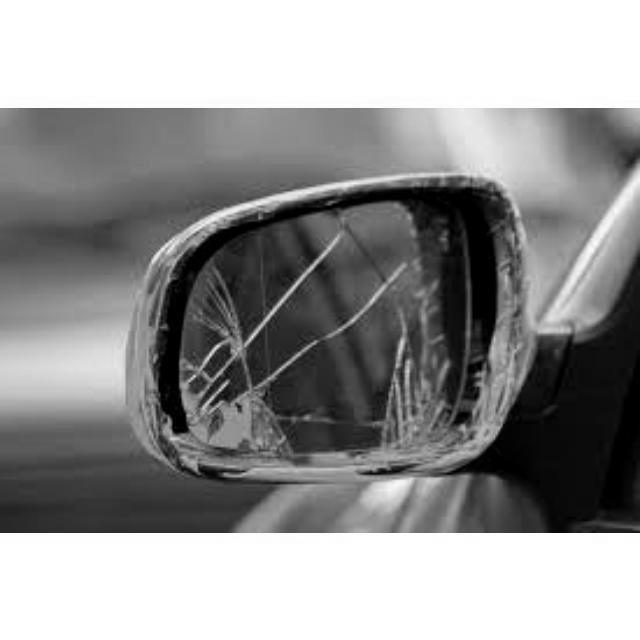Sidemirror-Damage: (101, 168, 552, 503)
